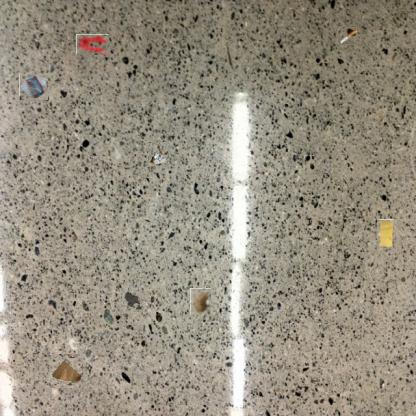dirty: (51, 356, 81, 386), (19, 74, 48, 100), (190, 288, 211, 315), (376, 219, 394, 248), (147, 142, 167, 166), (337, 26, 357, 44)
liquid: (76, 34, 109, 55), (122, 291, 142, 311)
